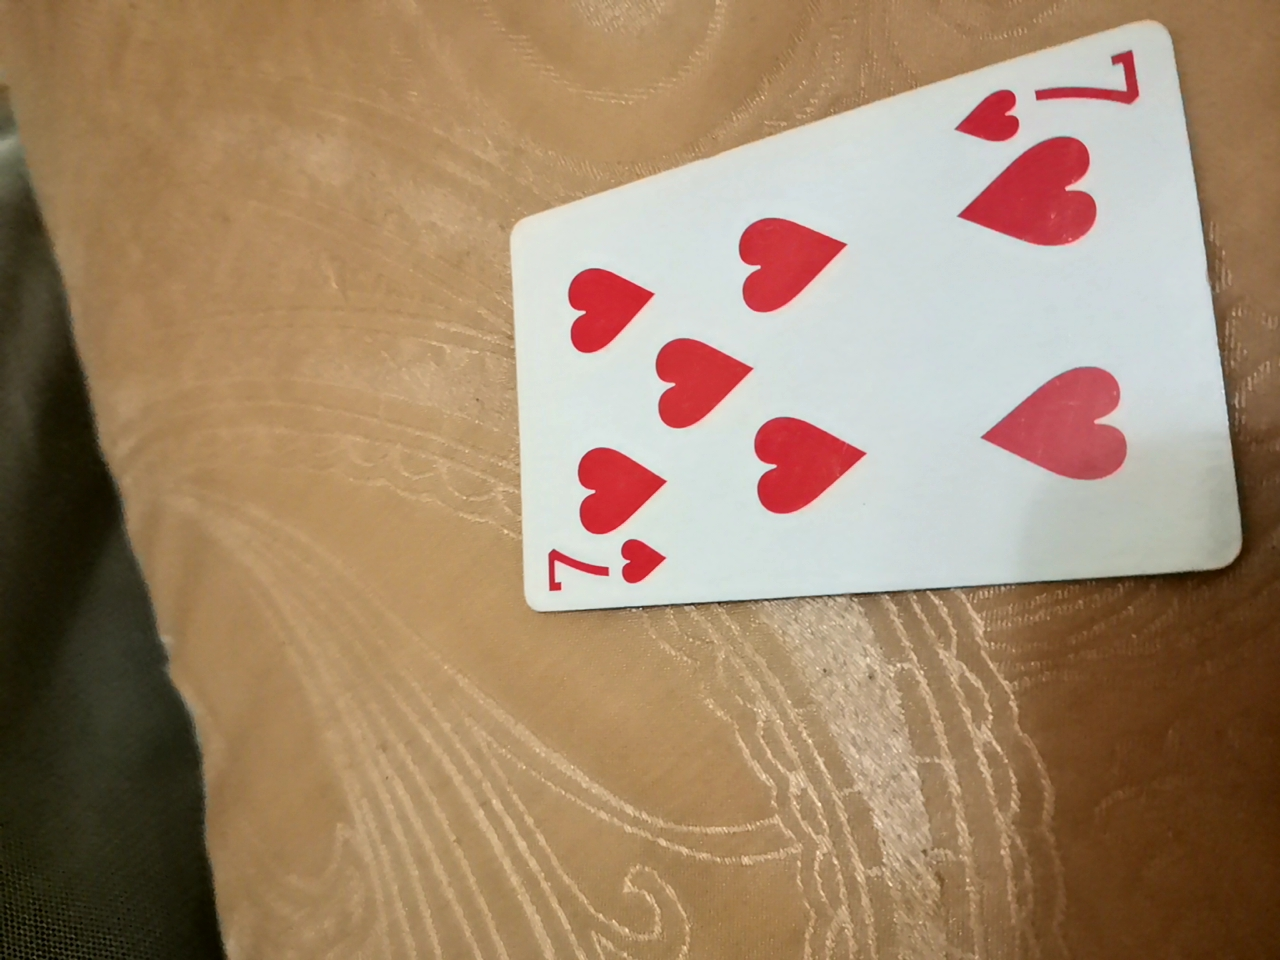hx 7: (483, 42, 1250, 618)
